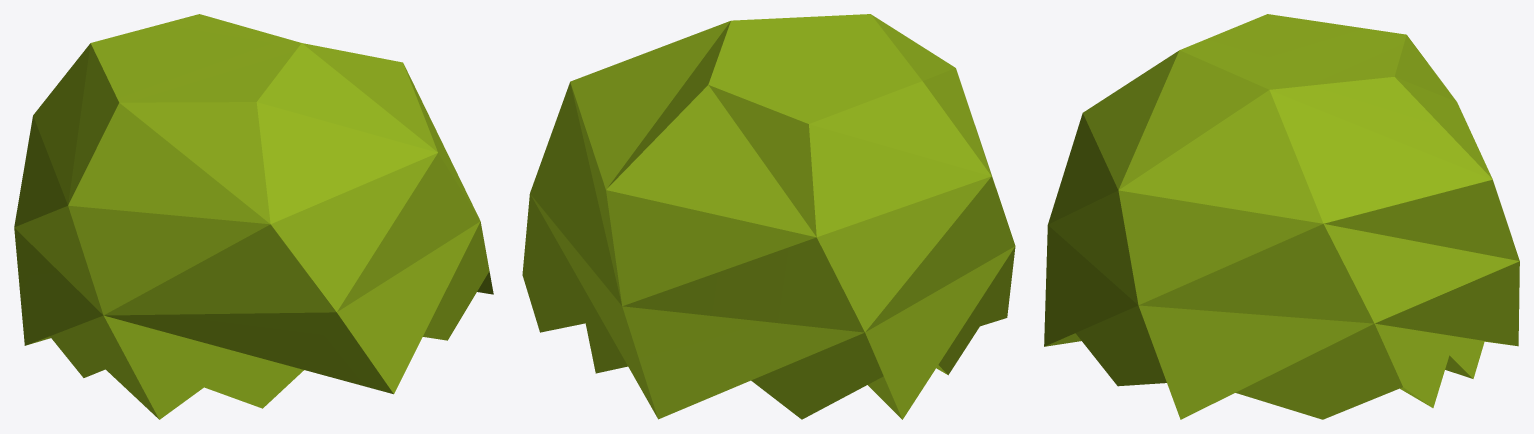
Rendered from Vegetation_Modular_Tree_Foliage_Clump_Draped_01.fbx.
3 views of the same model, side by side, from view 1: azimuth 30°, elevation 25°; view 2: azimuth 150°, elevation 25°; view 3: azimuth 270°, elevation 25° (orthographic). The views are drawn at different scales.
Visible parts, largest first — view 1: Vegetation_Modular_Tree_Foliage_Clump_Draped_01; view 2: Vegetation_Modular_Tree_Foliage_Clump_Draped_01; view 3: Vegetation_Modular_Tree_Foliage_Clump_Draped_01.
Boxes of the visible parts, x1,y1,x2,y2 form: Vegetation_Modular_Tree_Foliage_Clump_Draped_01: (14,14,493,419); Vegetation_Modular_Tree_Foliage_Clump_Draped_01: (522,14,1015,419); Vegetation_Modular_Tree_Foliage_Clump_Draped_01: (1044,14,1519,419).
Size of the model in its own units: 151 by 107 by 158.
